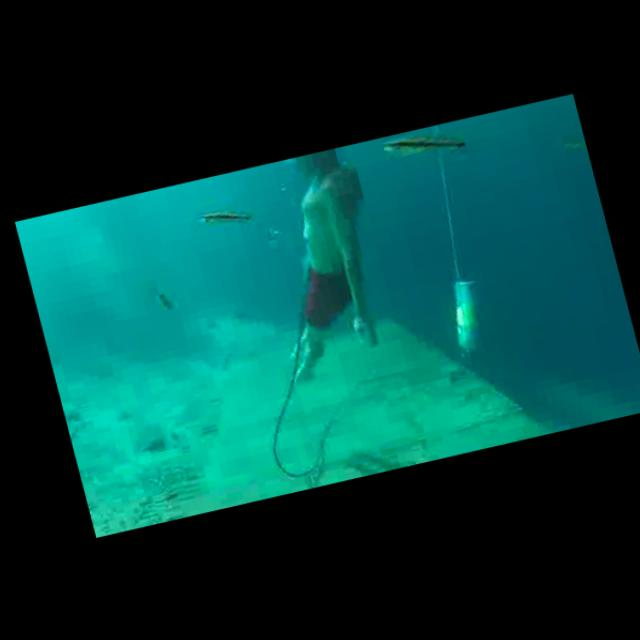human: (235, 144, 405, 385)
